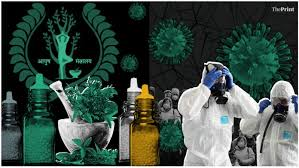mask: (266, 85, 290, 124), (207, 64, 228, 98), (161, 97, 170, 112), (171, 87, 180, 101), (150, 85, 156, 97), (162, 89, 169, 98)
